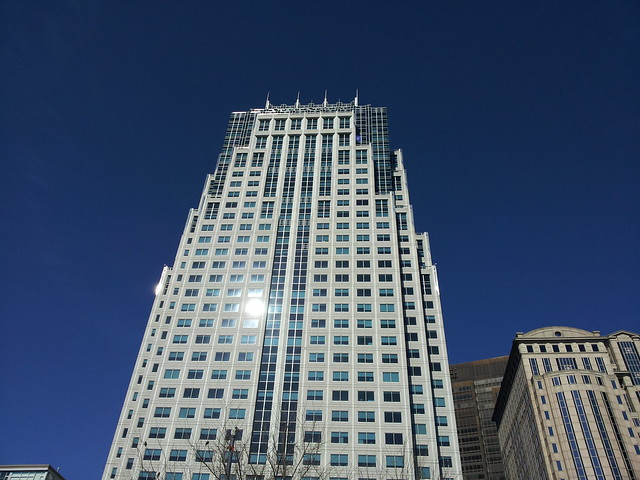medium: (99, 94, 468, 480)
